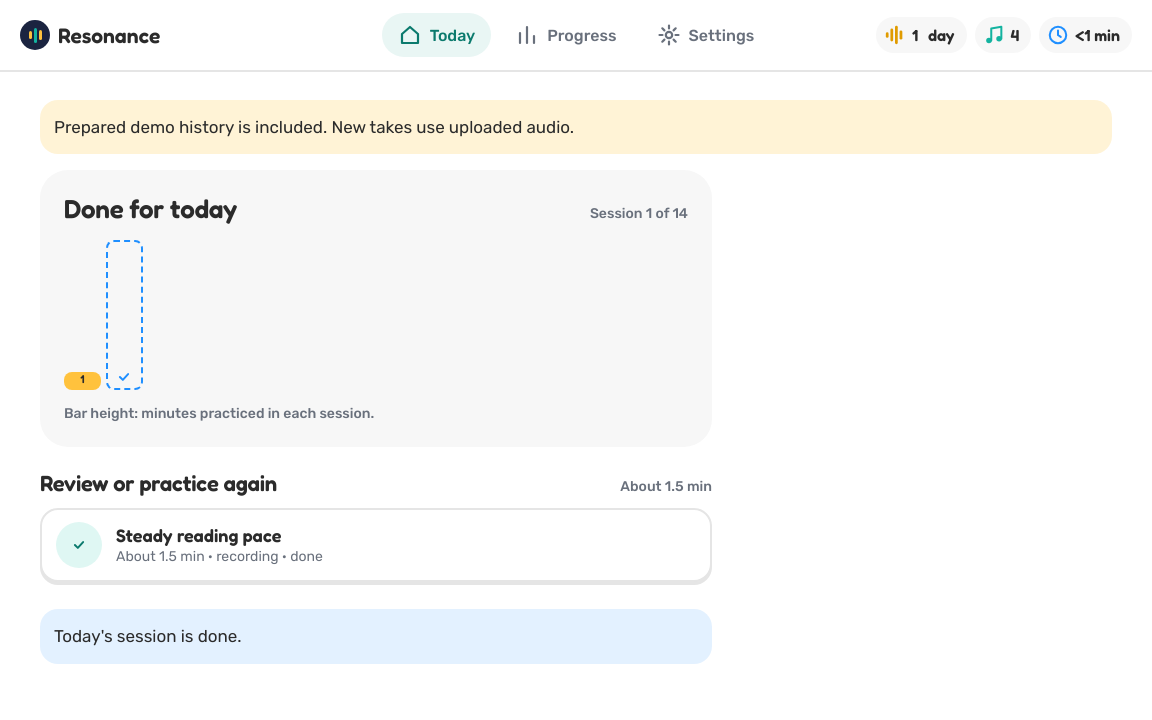
it: a completed day still exposes its exercises for review and marks prepared history
This screenshot has width=1152, height=720.
Expected: the heading "Review or practice again" is shown, x1=40 y1=471 x2=277 y2=496
Expected: the text "Prepared demo history is included. New takes use uploaded audio." is shown, x1=54 y1=114 x2=574 y2=140
Step 1. Click the link with aria-label "Steady reading pace, done" → point(79, 545), box x1=40 y1=508 x2=712 y2=582
(page scrolled)
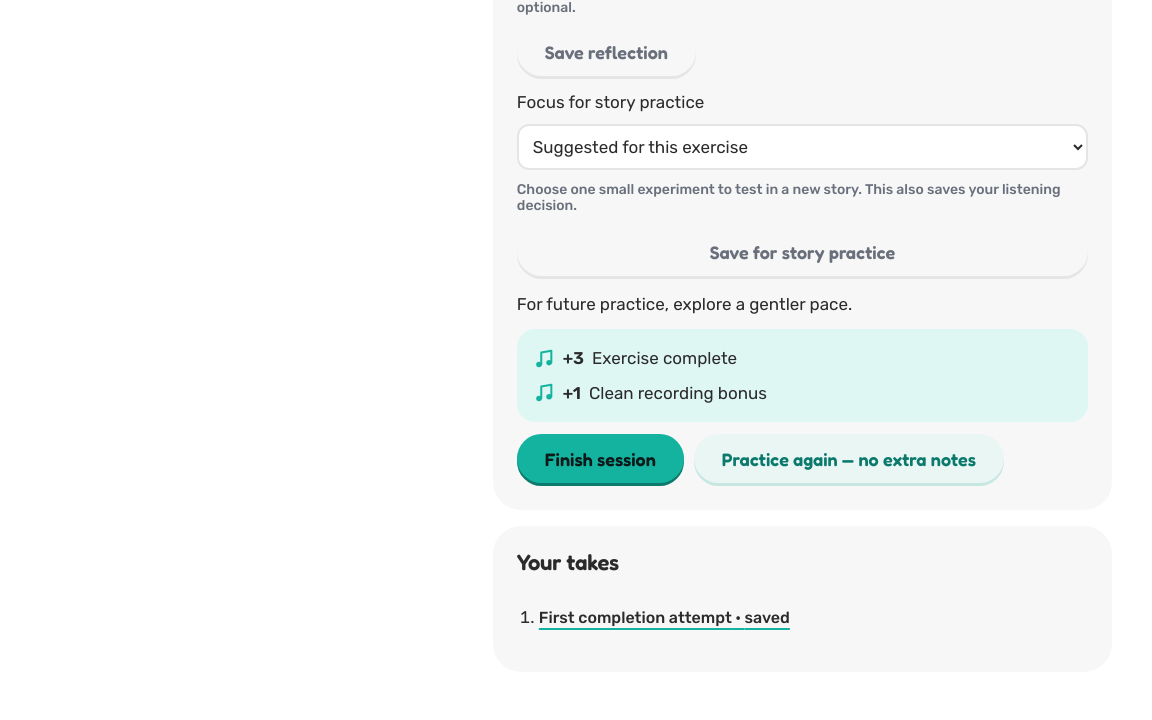
Expected: the button "Practice again — no extra notes" is shown, x1=694 y1=434 x2=1004 y2=483
